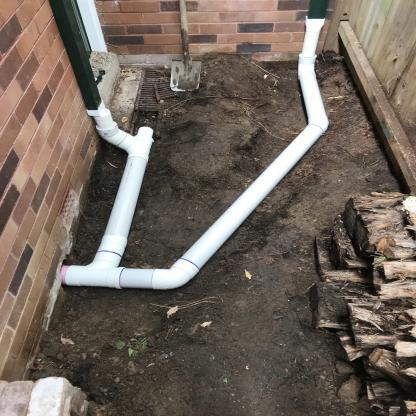PVC: (58, 19, 329, 290)
